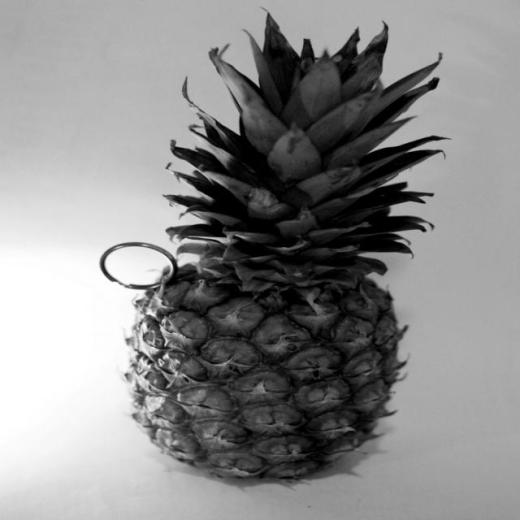Mango: (99, 7, 453, 479)
